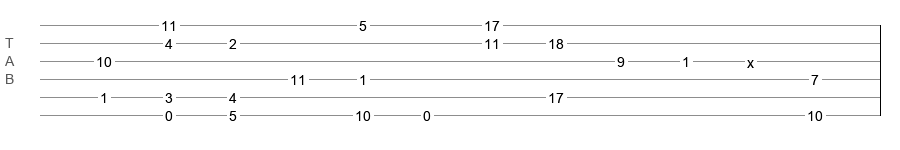0: (165, 108, 173, 118), (423, 108, 431, 118)
1: (100, 90, 108, 100), (359, 72, 367, 82), (682, 54, 690, 64)
10: (96, 54, 112, 64), (355, 108, 371, 118), (807, 108, 823, 118)
11: (161, 18, 177, 28), (290, 72, 306, 82), (484, 36, 500, 46)
17: (484, 18, 500, 28), (548, 90, 564, 100)
18: (548, 36, 564, 46)
2: (229, 36, 237, 46)
3: (165, 90, 173, 100)
4: (165, 36, 173, 46), (229, 90, 237, 100)
5: (229, 108, 237, 118), (359, 18, 367, 28)
7: (811, 72, 819, 82)
9: (617, 54, 625, 64)
x: (747, 55, 754, 63)
